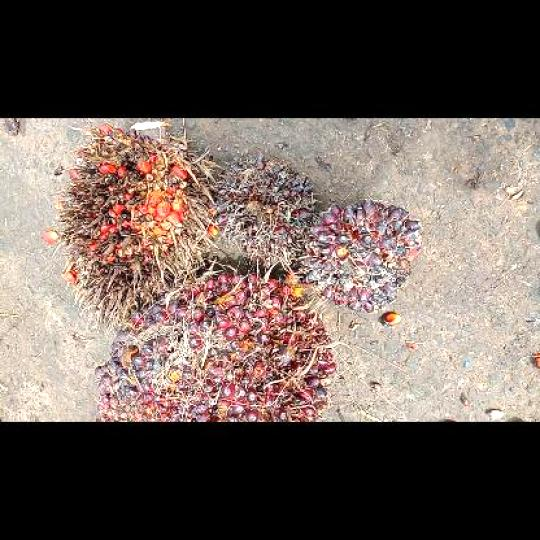masak: (91, 268, 337, 420)
terlalu masak: (57, 122, 213, 338)
